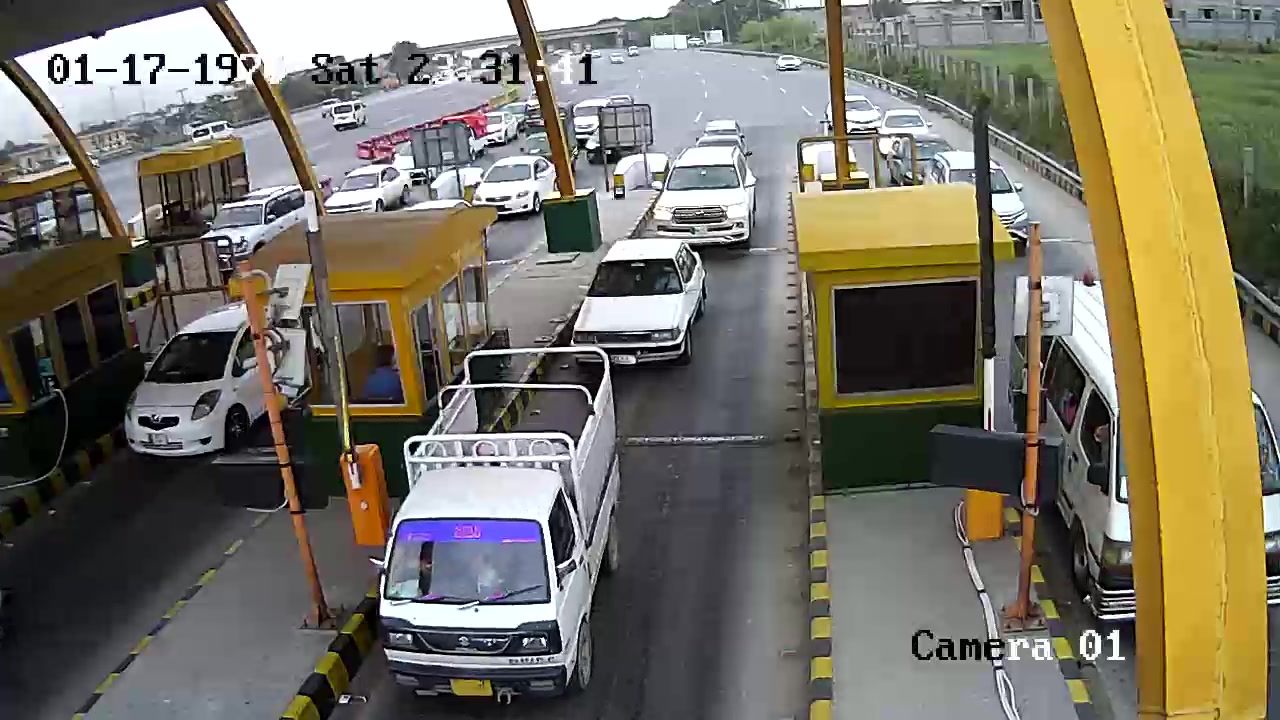F1: (381, 344, 624, 701), (571, 240, 708, 373)
